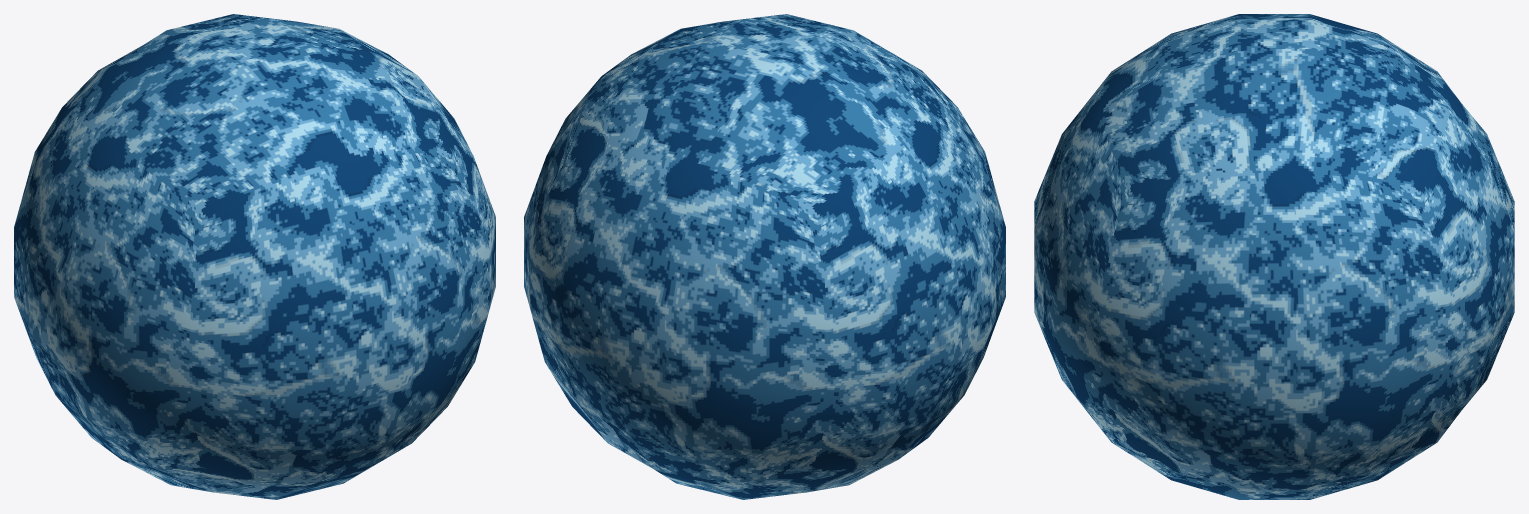
Rendered from azul.glb.
The picture shows the model from 3 angles, left to right: view 1: azimuth 30°, elevation 25°; view 2: azimuth 150°, elevation 25°; view 3: azimuth 270°, elevation 25°; orthographic projection.
Parts seen in each view (by area): view 1: Asset3DLoader.sceneRoot; view 2: Asset3DLoader.sceneRoot; view 3: Asset3DLoader.sceneRoot.
Boxes of the visible parts, x1,y1,x2,y2 form: Asset3DLoader.sceneRoot: [14, 14, 495, 499]; Asset3DLoader.sceneRoot: [524, 14, 1005, 499]; Asset3DLoader.sceneRoot: [1034, 14, 1514, 499].
Size of the model in its own units: 3.36 by 3.36 by 3.36.
Materials: 1 (1 with a texture image).
